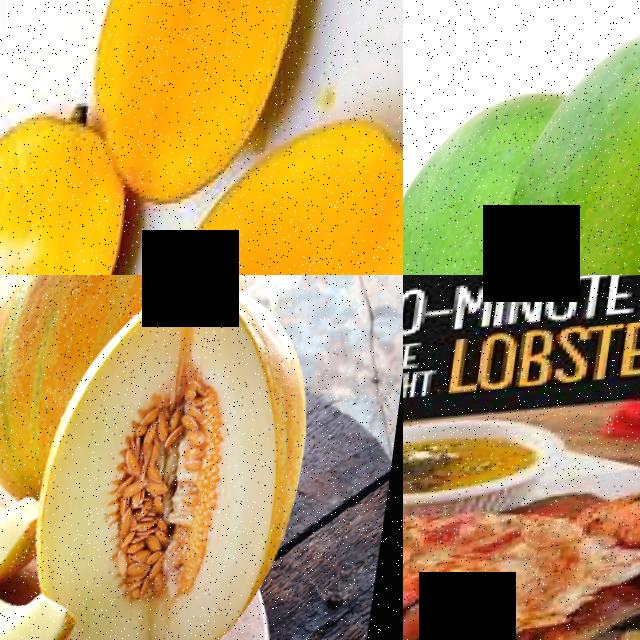lobster tails: (403, 515, 639, 640)
mango: (473, 11, 640, 275), (204, 108, 403, 275), (98, 0, 329, 136), (0, 106, 97, 275)
melon: (61, 280, 336, 640)
